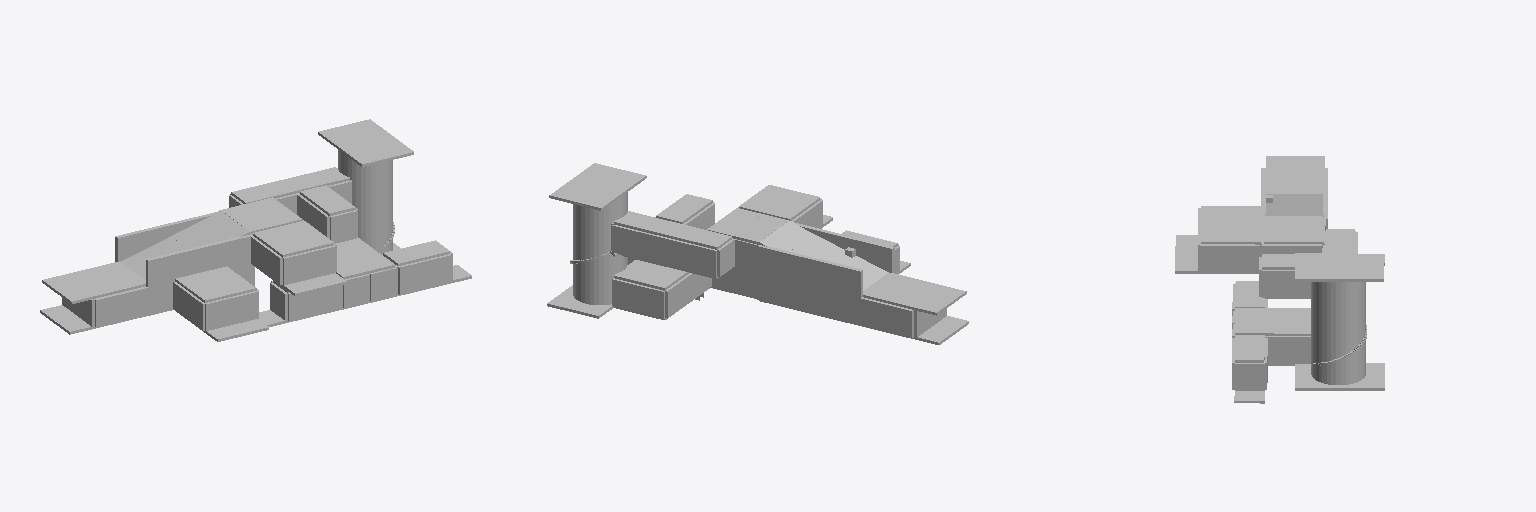
File: DungeonC2.obj
The picture shows the model from 3 angles: view 1: azimuth 30°, elevation 25°; view 2: azimuth 150°, elevation 25°; view 3: azimuth 270°, elevation 25°; orthographic projection.
Parts seen in each view (by area): view 1: _Ceiling_57_Ceiling_57.001, _Wall_A_80_Wall_A_80.001, _Door_A_4_Door_A_4.001, _Wall_A_14_Wall_A_14.001, _Wall_A_Roundabout_1_Wall_A_Roundabout_1.001, _Floor_B_Floor_B_47.001, _Ceiling_26_Ceiling_26.002; view 2: _Ceiling_57_Ceiling_57.001, _Ceiling_26_Ceiling_26.002, _Wall_A_Roundabout_1_Wall_A_Roundabout_1.001, _Wall_A_80_Wall_A_80.001, _Floor_B_Floor_B_47.001, _Wall_A_14_Wall_A_14.001, _Wall_A_30_Wall_A_30.001, _Door_A_4_Door_A_4.001; view 3: _Ceiling_57_Ceiling_57.001, _Wall_A_Roundabout_1_Wall_A_Roundabout_1.001, _Wall_A_80_Wall_A_80.001, _Floor_B_Floor_B_47.001, _Wall_A_14_Wall_A_14.001.
Part boxes in pixels (x1,y1,x2,y2): _Ceiling_57_Ceiling_57.001: (42, 119, 449, 303); _Wall_A_80_Wall_A_80.001: (146, 193, 357, 287); _Door_A_4_Door_A_4.001: (62, 263, 258, 330); _Wall_A_14_Wall_A_14.001: (270, 251, 452, 320); _Wall_A_Roundabout_1_Wall_A_Roundabout_1.001: (338, 150, 392, 254); _Floor_B_Floor_B_47.001: (40, 243, 471, 341); _Ceiling_26_Ceiling_26.002: (115, 181, 351, 261); _Ceiling_57_Ceiling_57.001: (549, 163, 966, 315); _Ceiling_26_Ceiling_26.002: (612, 231, 913, 337); _Wall_A_Roundabout_1_Wall_A_Roundabout_1.001: (573, 192, 627, 304); _Wall_A_80_Wall_A_80.001: (655, 198, 894, 277); _Floor_B_Floor_B_47.001: (547, 215, 968, 344); _Wall_A_14_Wall_A_14.001: (628, 258, 756, 318); _Wall_A_30_Wall_A_30.001: (612, 225, 690, 271); _Door_A_4_Door_A_4.001: (895, 244, 946, 336); _Ceiling_57_Ceiling_57.001: (1201, 156, 1384, 362); _Wall_A_Roundabout_1_Wall_A_Roundabout_1.001: (1311, 282, 1365, 384); _Wall_A_80_Wall_A_80.001: (1198, 168, 1355, 297); _Floor_B_Floor_B_47.001: (1175, 235, 1384, 403); _Wall_A_14_Wall_A_14.001: (1232, 283, 1310, 390).
Bounding box in the file's own units: 8709 × 2497 × 4091.